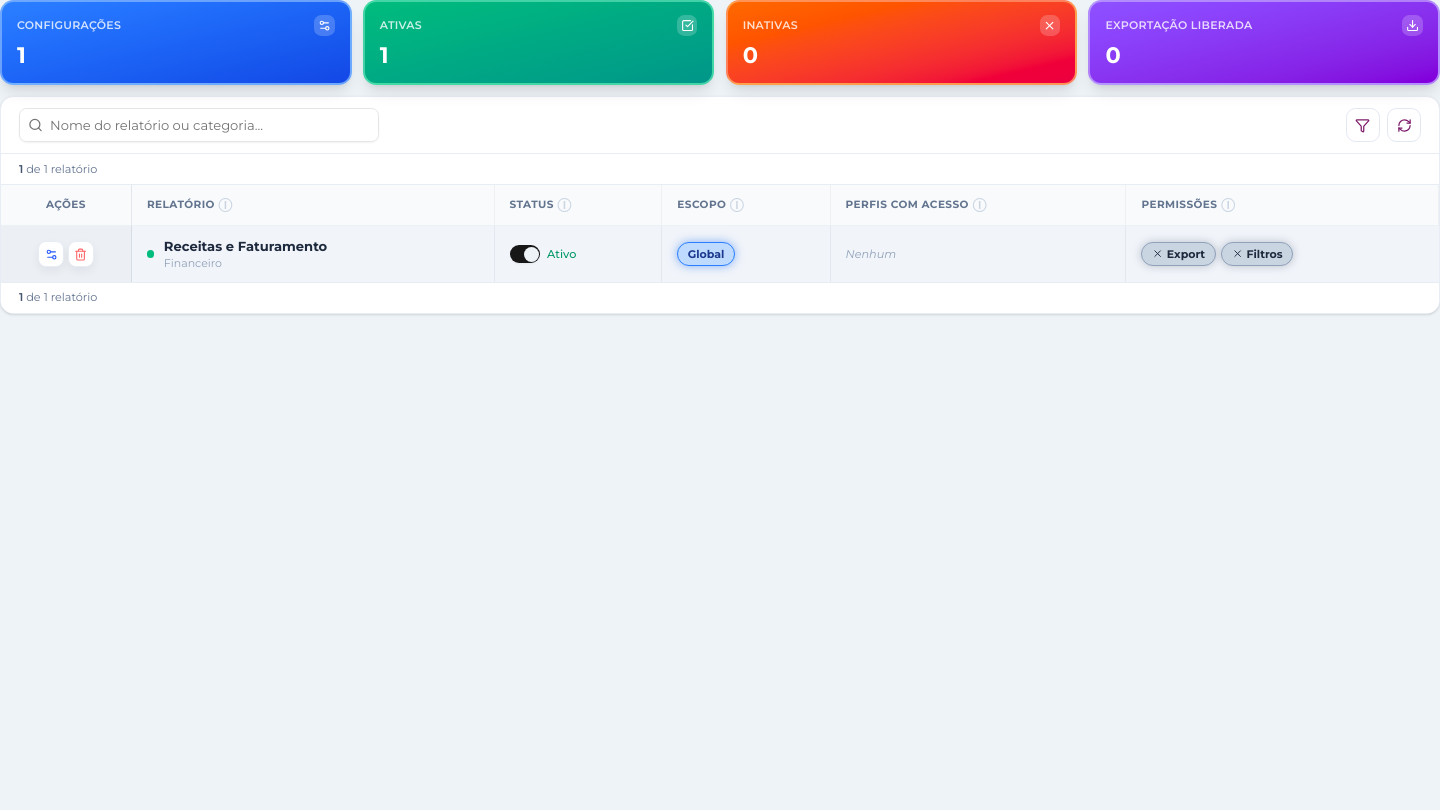
Test case: ReportConfigsTable — exclusão com dupla confirmação › erro da API mantém a linha e mostra a mensagem dentro do diálogo
What coordinates should you click on to do the following:
click the button named "remover configuração de"
I would click on:
 (81, 254)
Its box is top-left (68, 241), bottom-right (94, 267).
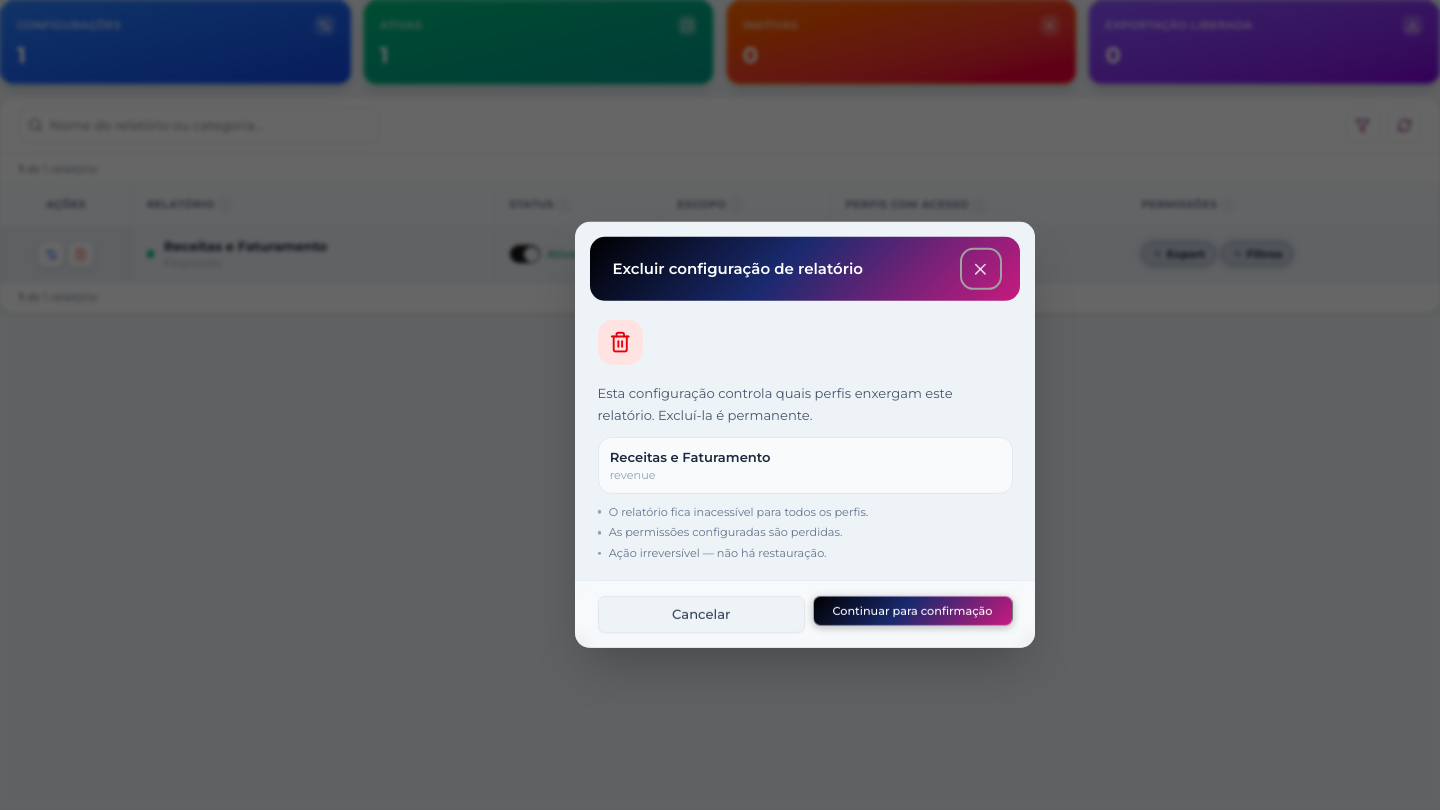
What coordinates should you click on to do the following:
click the button "Continuar para confirmação"
I would click on:
 (912, 611)
Its box is top-left (812, 596), bottom-right (1012, 626).
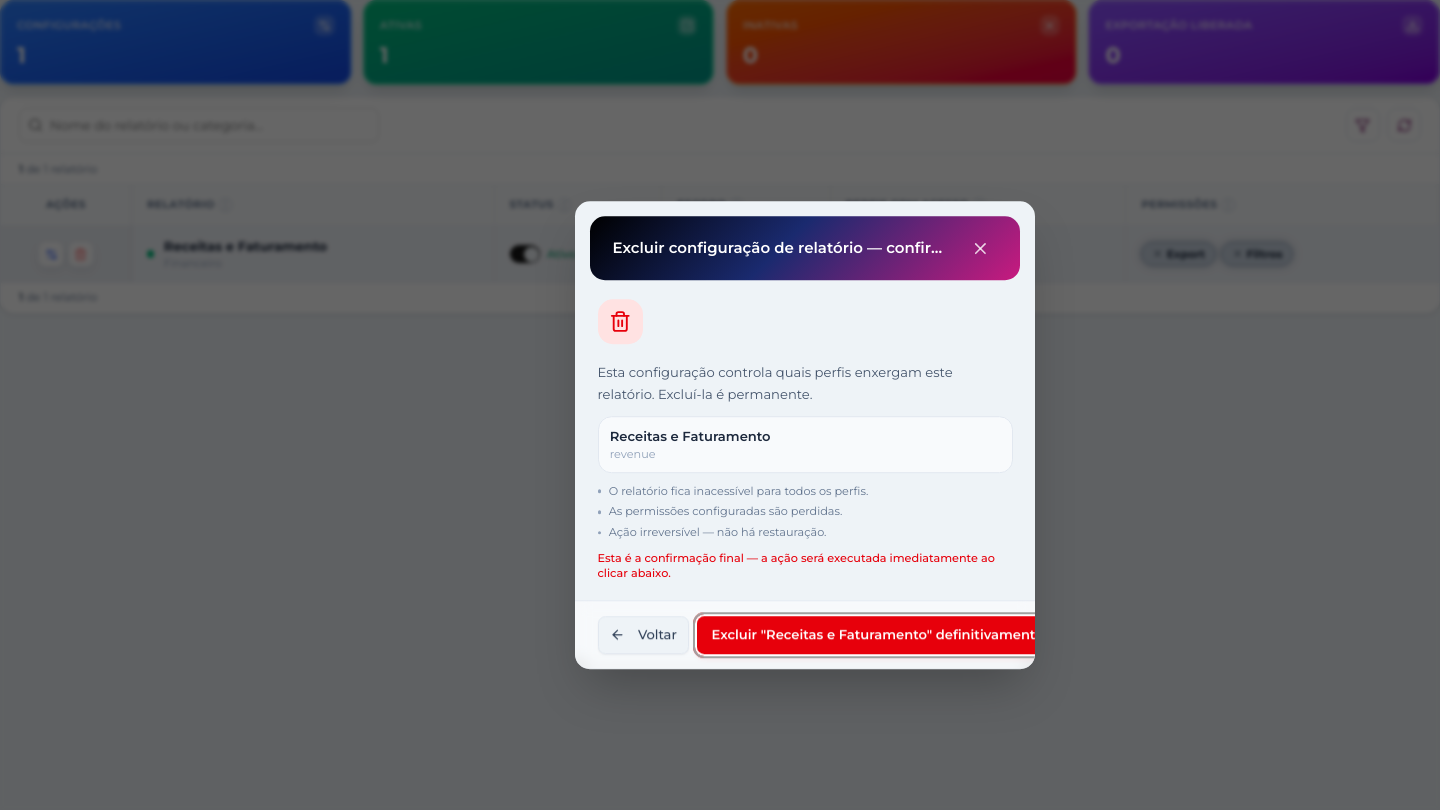
What coordinates should you click on to do the following:
click the button "Excluir \"Receitas e Faturamento\" definitivamente"
I would click on:
 (878, 635)
Its box is top-left (697, 616), bottom-right (1058, 654).
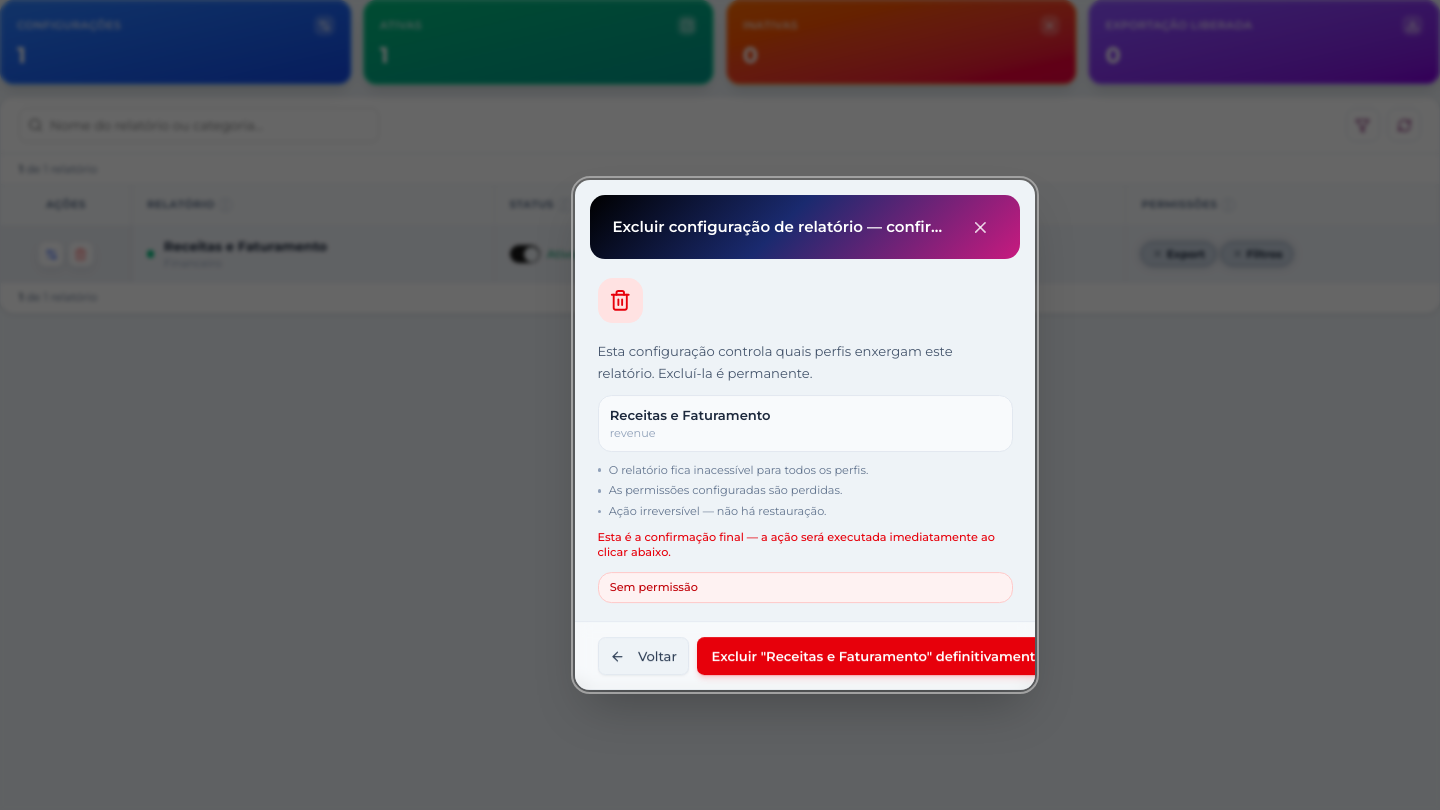
Check: the button "Excluir \"Receitas e Faturamento\" definitivamente" is shown, box top-left (697, 637), bottom-right (1035, 675)
Check: the text "Sem permissão" is shown, box top-left (610, 580), bottom-right (698, 594)
